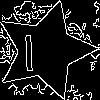I: (20, 25, 37, 72)
